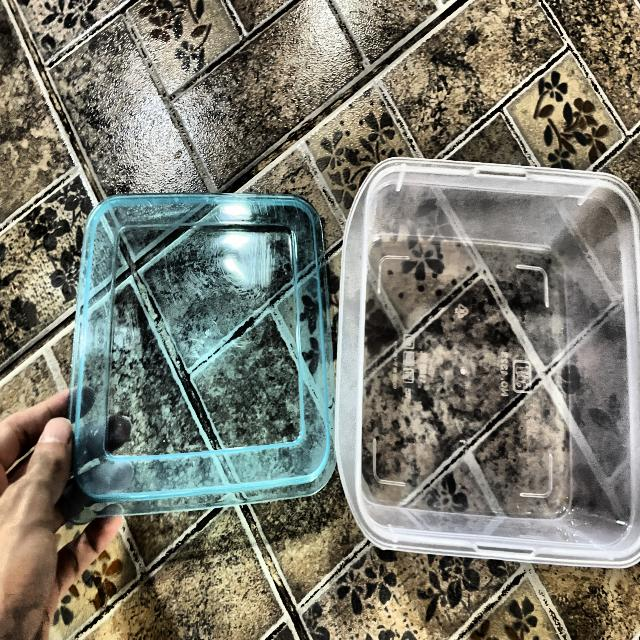plastic container: (57, 147, 620, 566)
